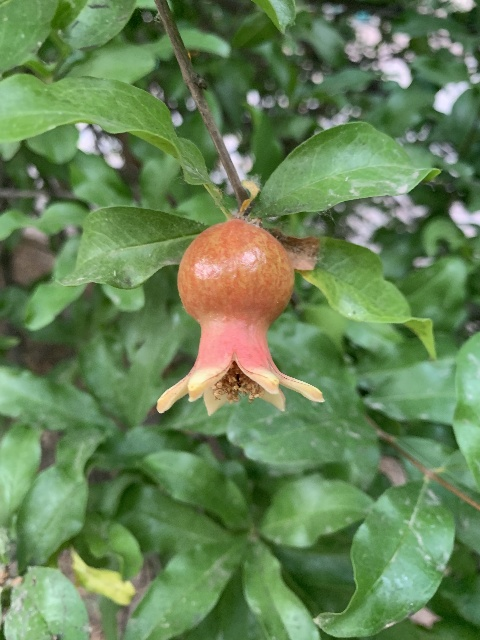early-fruit: (156, 219, 323, 417)
